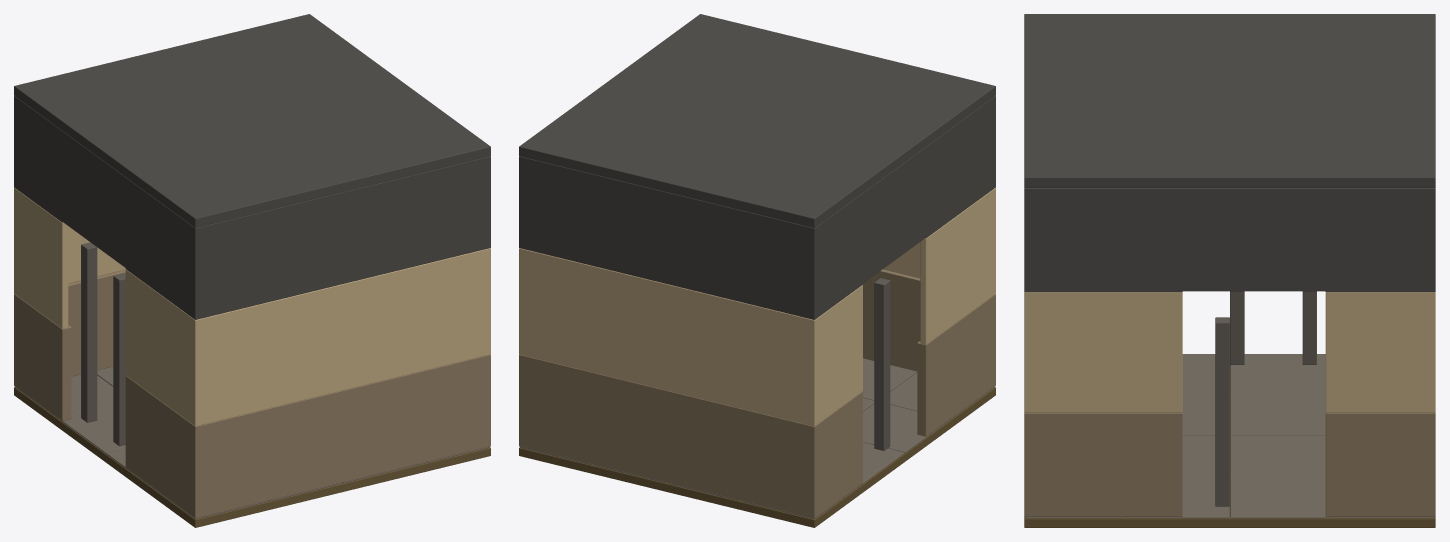
File: gen-crib.glb
The picture shows the model from 3 angles, left to right: view 1: azimuth 30°, elevation 25°; view 2: azimuth 150°, elevation 25°; view 3: azimuth 270°, elevation 25°; orthographic projection. The views are drawn at different scales.
Parts seen in each view (by area): view 1: THE CRIB; view 2: THE CRIB; view 3: THE CRIB.
Boxes of the visible parts, box(x1,y1,x2,y2) form: THE CRIB: box(14, 14, 490, 527); THE CRIB: box(519, 14, 995, 527); THE CRIB: box(1024, 14, 1435, 527).
Size of the model in its own units: 3.2 by 3.2 by 3.4.
